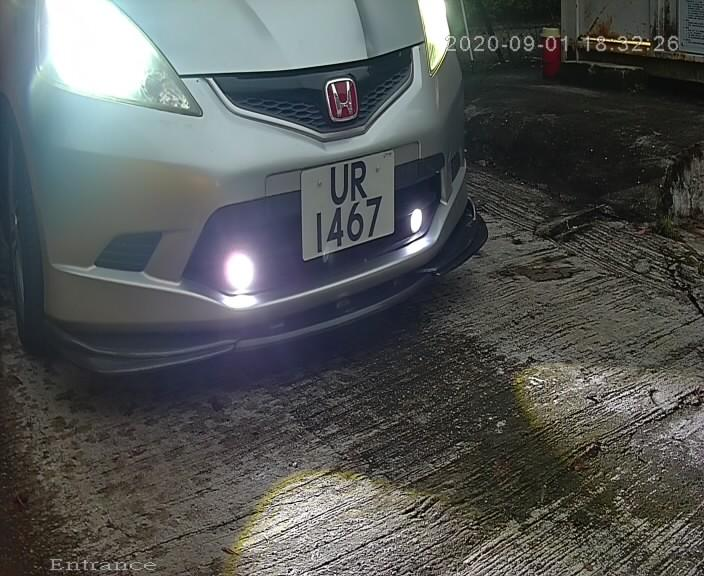License Plate: (293, 137, 397, 271)
